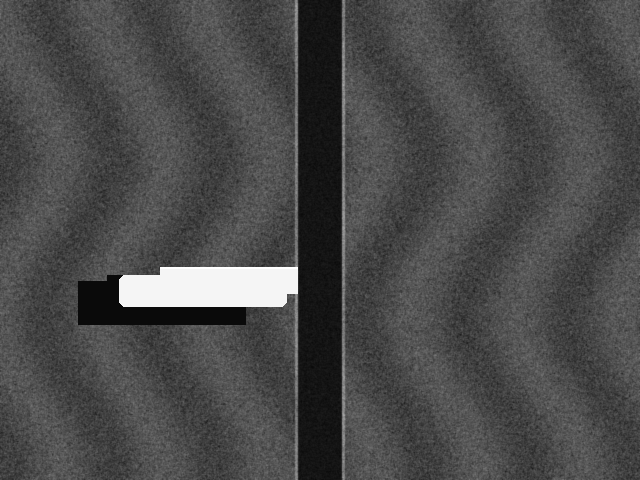Metal Debris: (160, 267, 297, 293)
Wood Debris: (119, 275, 286, 306)
